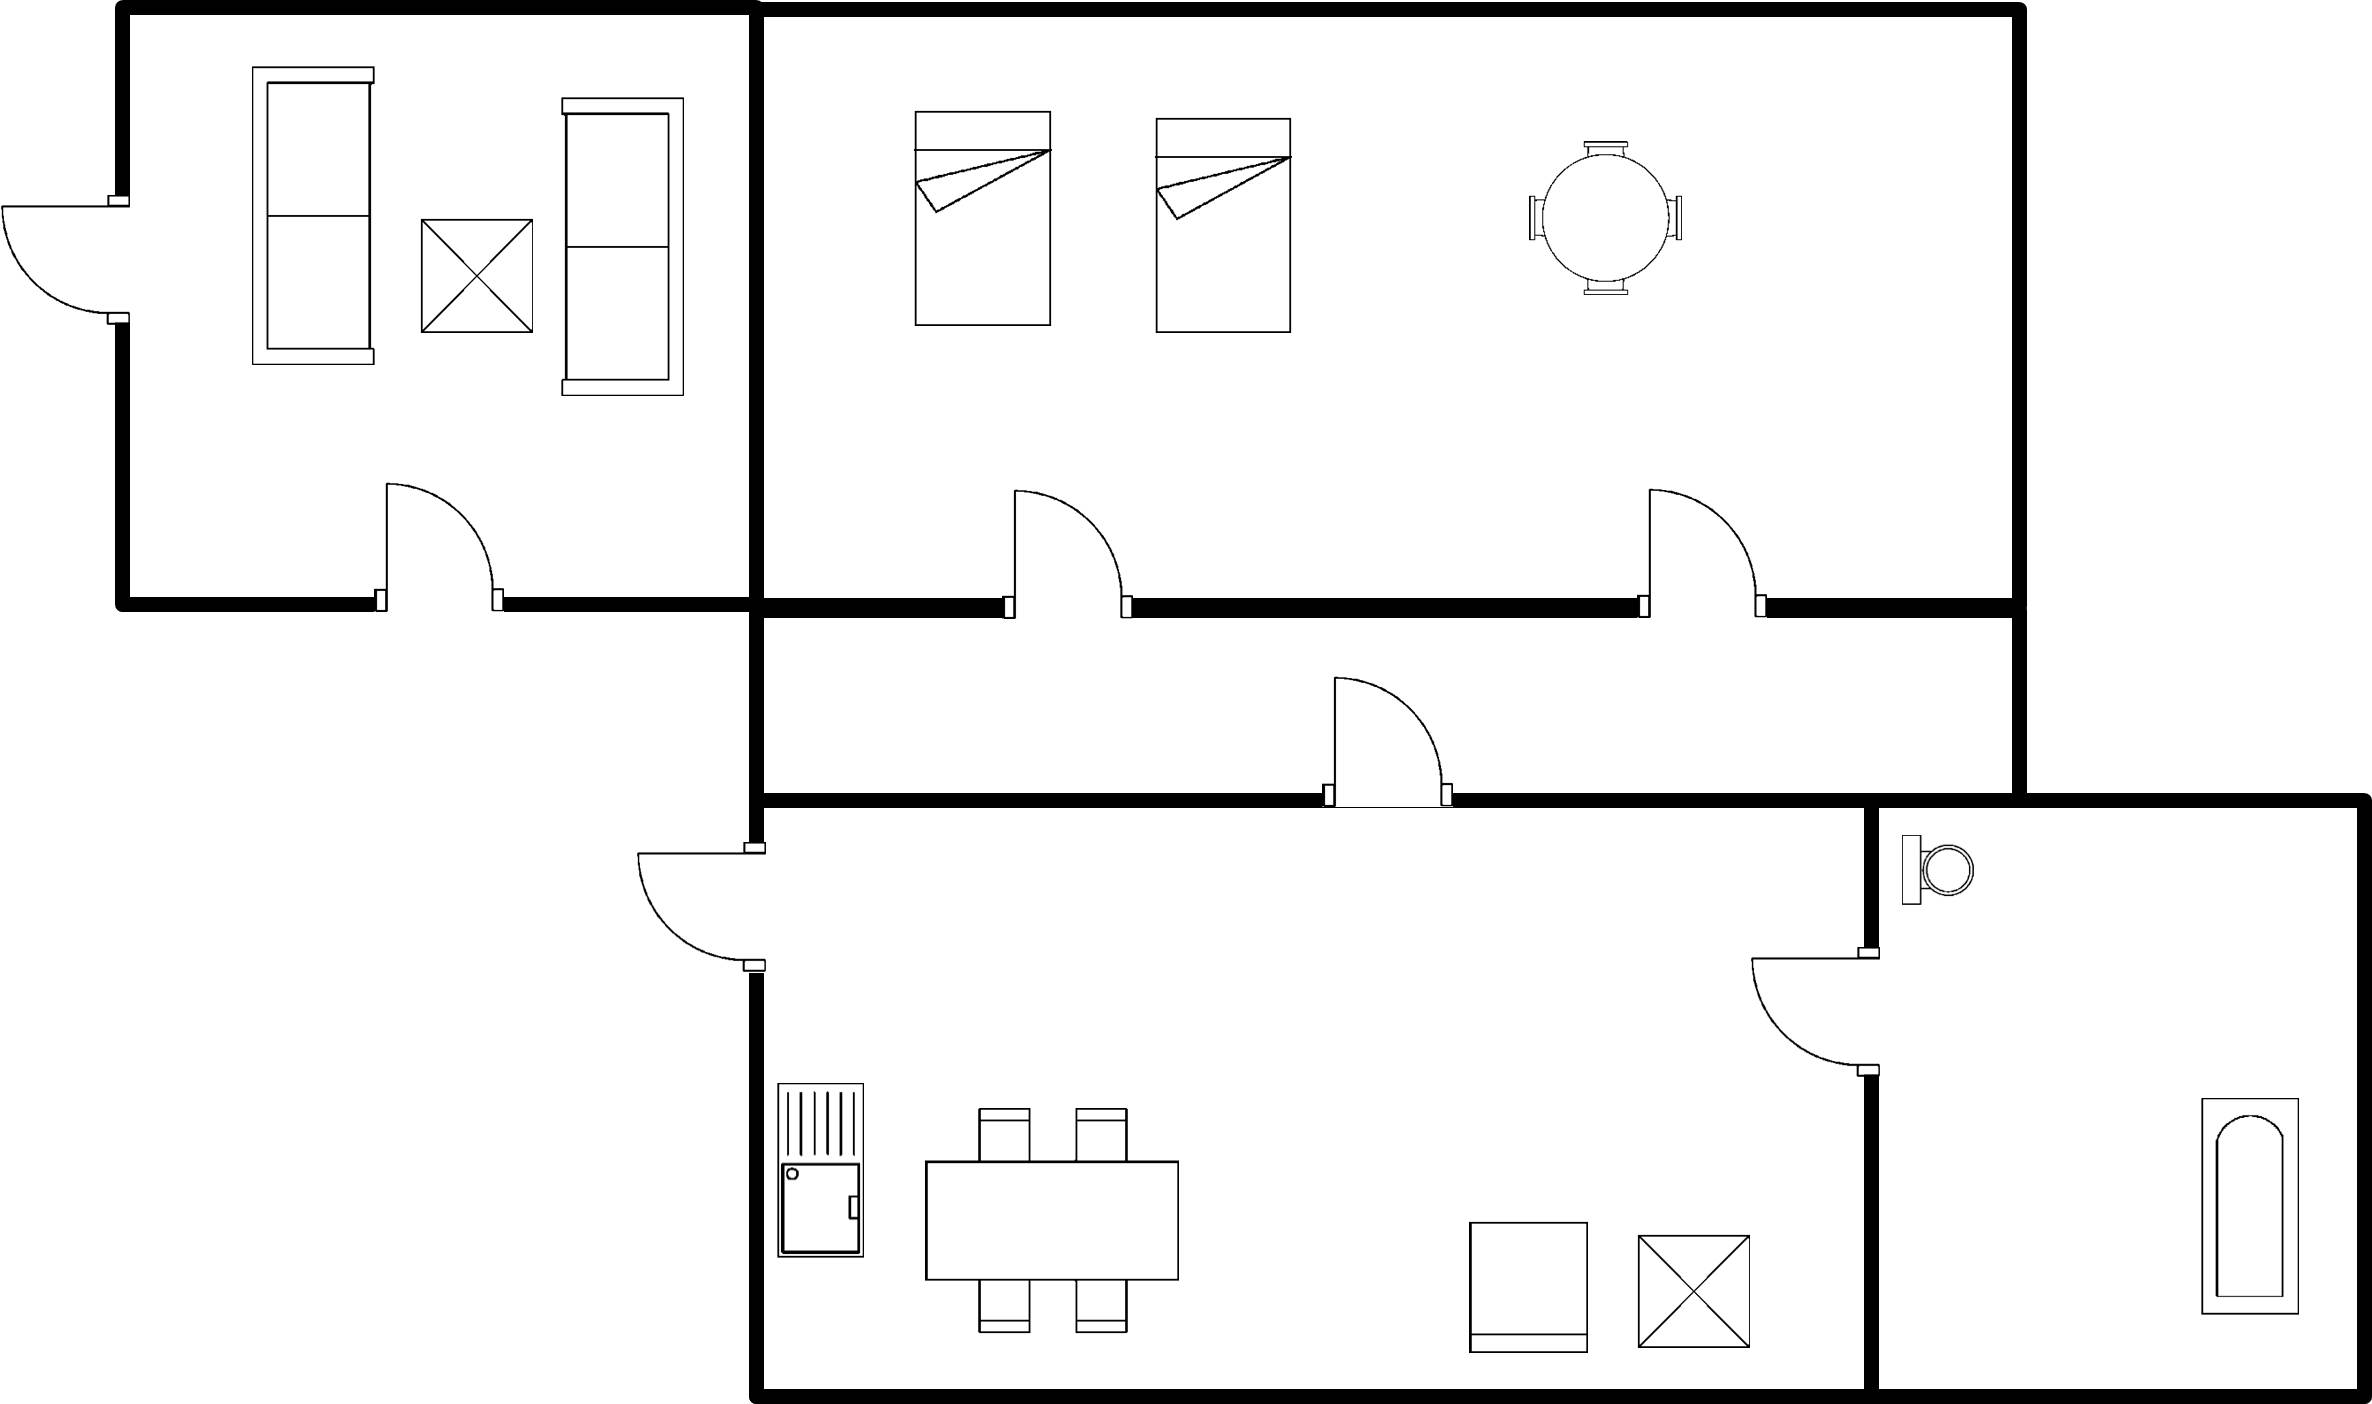bed: (896, 98, 1069, 337), (1142, 105, 1305, 349)
coffee_table: (1620, 1224, 1764, 1361), (410, 210, 542, 354)
dining_table: (908, 1088, 1188, 1346)
large_sink: (1890, 820, 1985, 919)
large_sofa: (547, 80, 700, 415), (239, 56, 386, 380)
round_table: (1512, 130, 1698, 308)
sink: (768, 1071, 878, 1268)
small_sofa: (1454, 1207, 1596, 1368)
tub: (2188, 1088, 2313, 1329)
